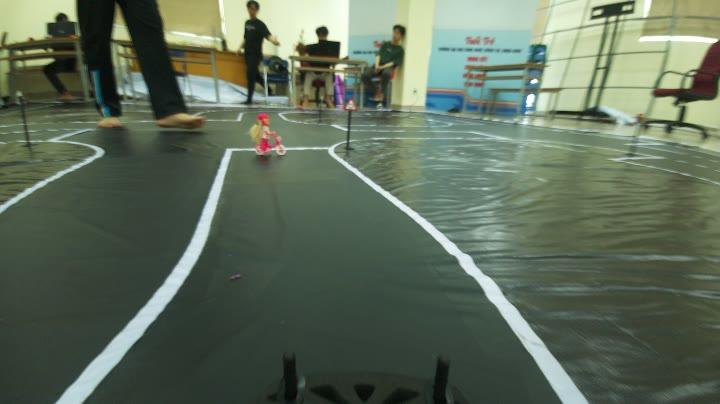pedestrian: (246, 116, 286, 159)
